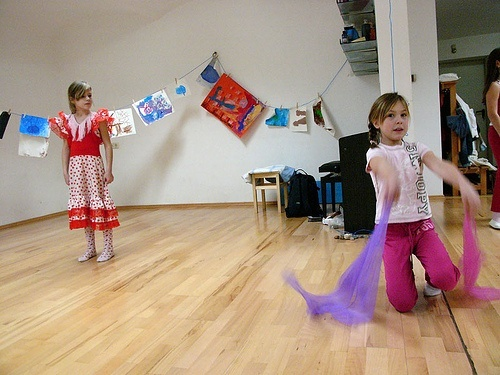head: (368, 91, 413, 144), (67, 78, 92, 114)
person: (363, 90, 482, 315), (49, 80, 118, 262), (481, 49, 499, 233)
